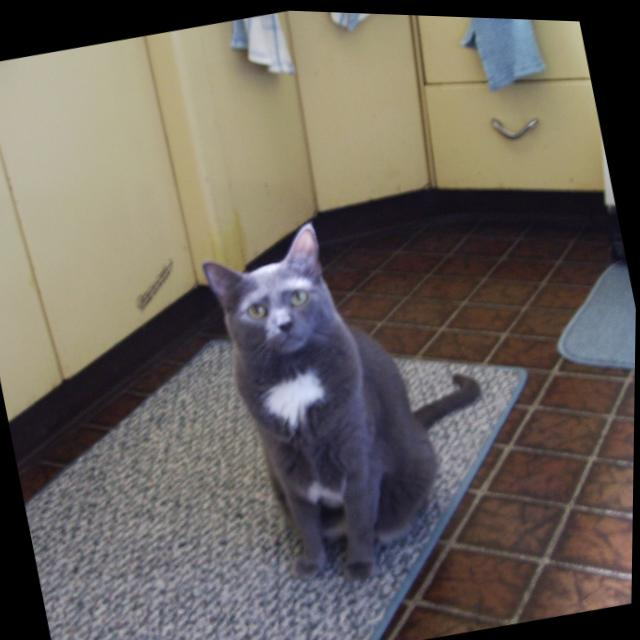animals: (201, 221, 332, 343)
